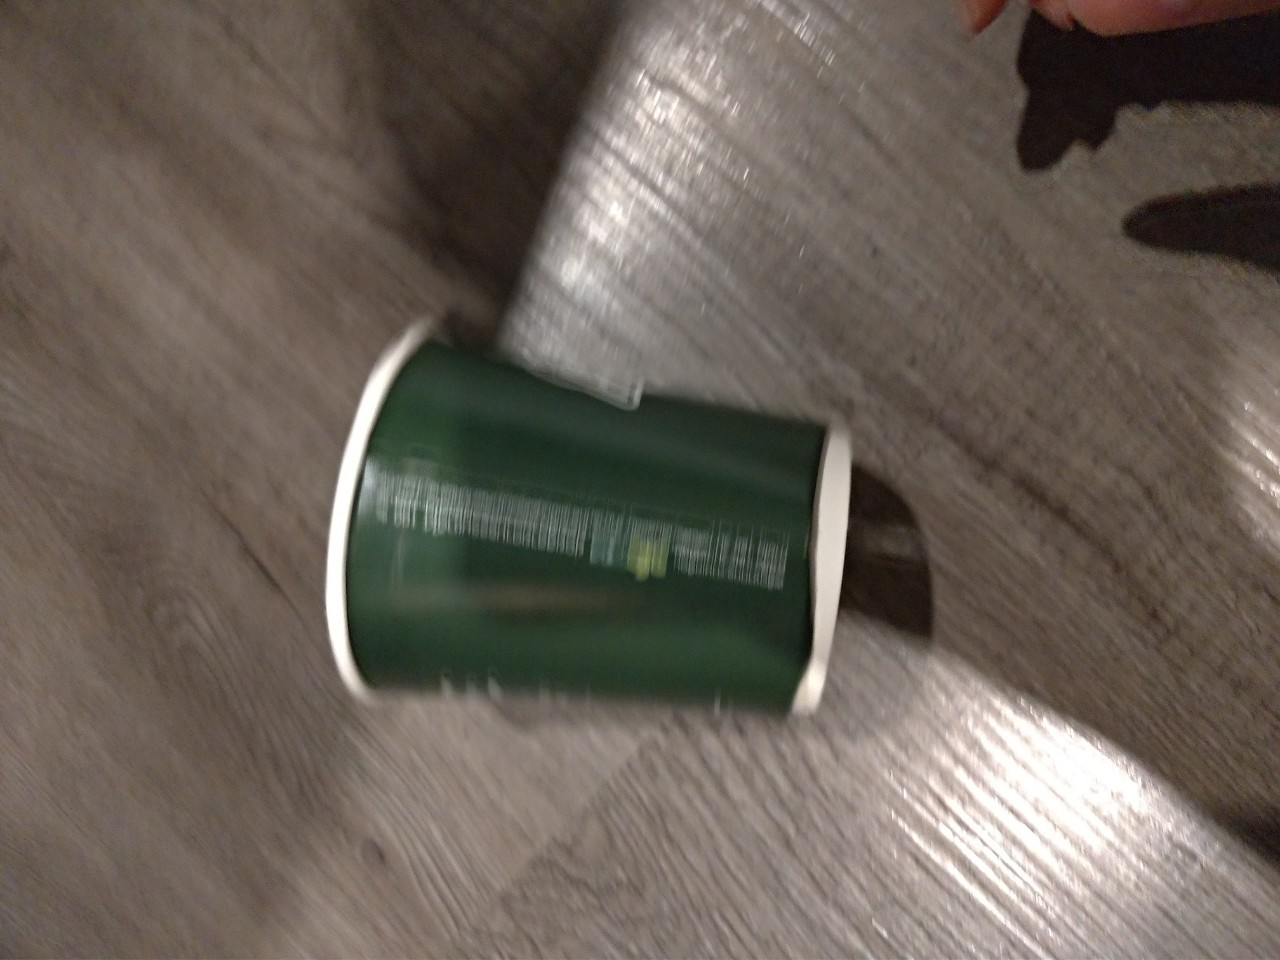PaperCup: (324, 317, 855, 727)
